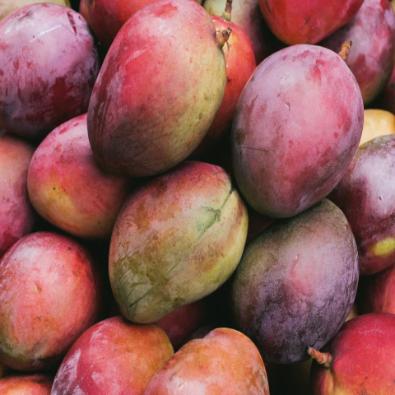mango: (70, 0, 242, 185), (90, 159, 265, 316), (230, 21, 368, 220), (224, 195, 367, 367)
